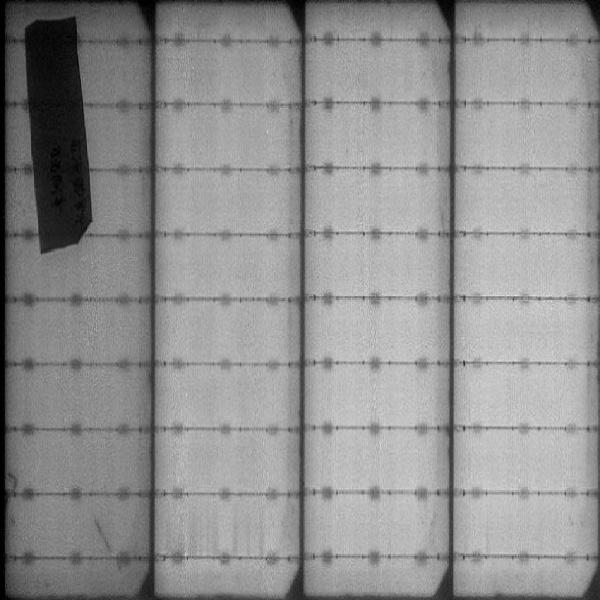broken: (17, 9, 96, 261)
scratch: (90, 519, 113, 553)
